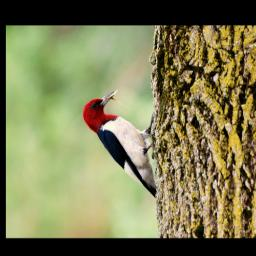Woodpecker: (82, 91, 156, 197)
